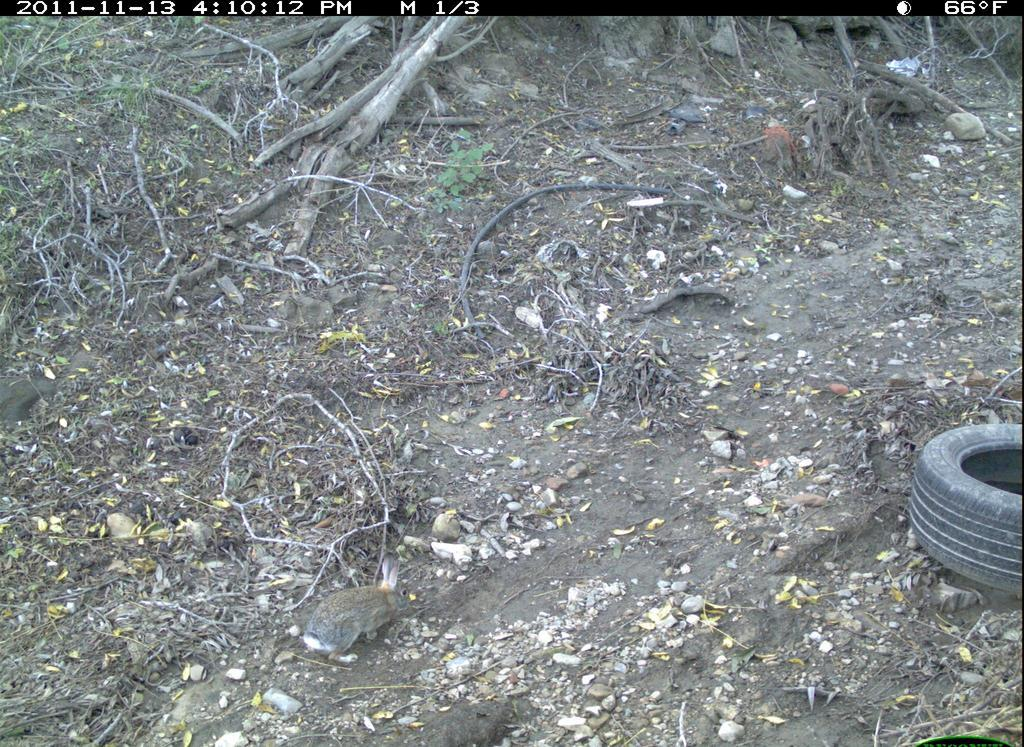rabbit: (297, 552, 418, 667)
